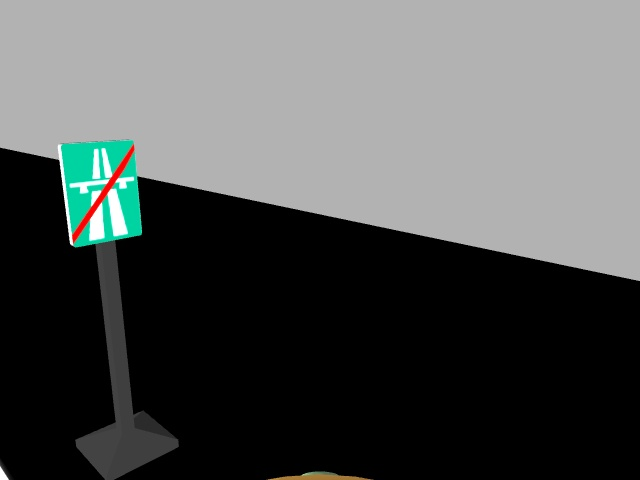HighwayExit: (54, 140, 144, 245)
